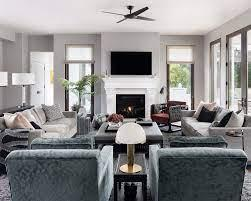TV: (110, 51, 151, 75)
chair: (5, 144, 118, 201), (146, 146, 251, 201), (150, 100, 193, 132), (29, 134, 95, 149), (170, 134, 226, 147)
door: (226, 36, 246, 114), (30, 55, 46, 106)
fan: (94, 0, 167, 28)
light: (115, 122, 147, 173), (9, 70, 37, 109)
sofa: (180, 102, 251, 147), (0, 102, 78, 140)
table: (95, 115, 163, 152), (117, 150, 148, 201)
